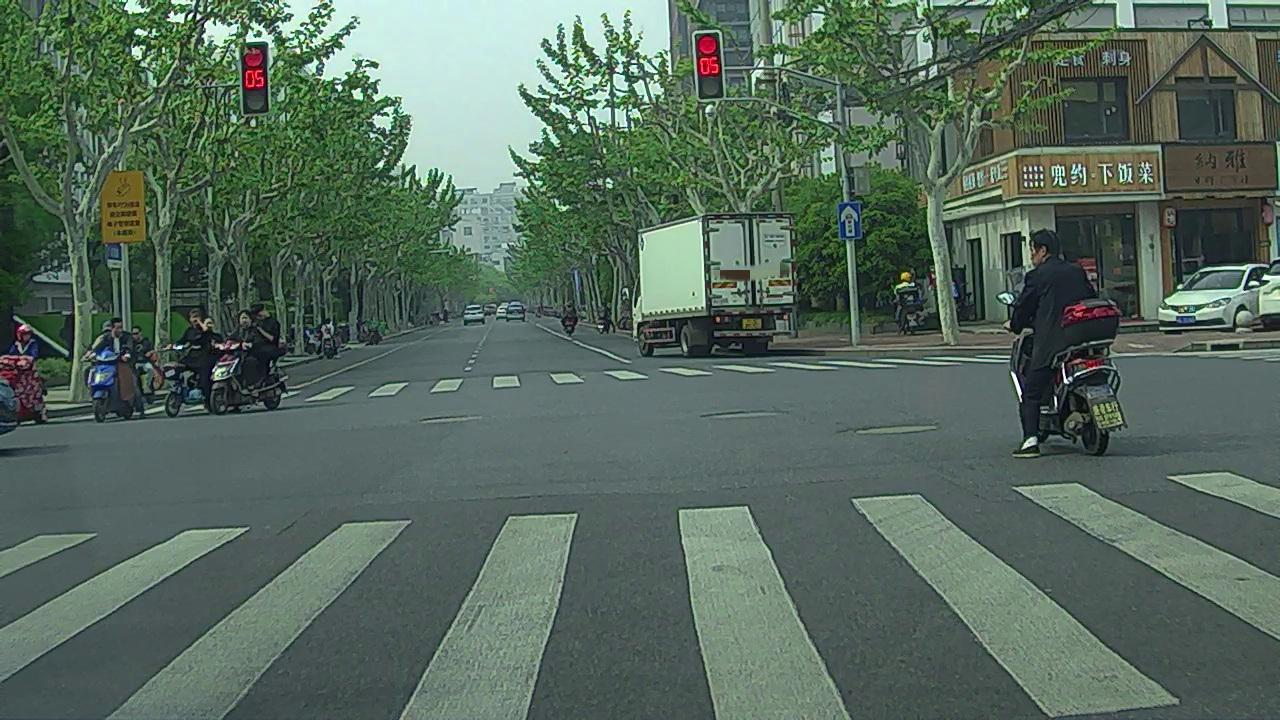traffic_light: (694, 32, 723, 101), (242, 45, 268, 113)
